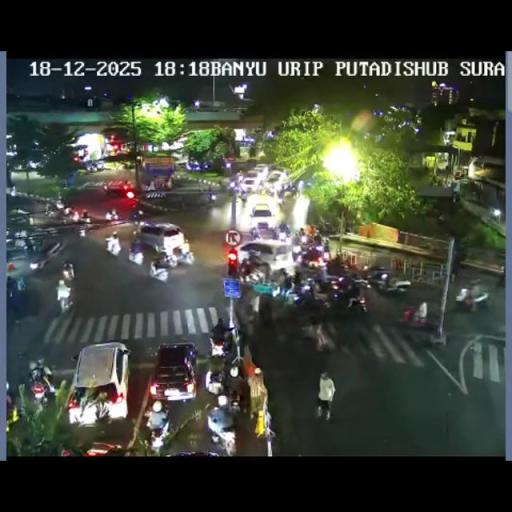Car: (66, 342, 132, 424), (147, 342, 198, 405), (236, 239, 294, 274), (137, 222, 185, 254), (364, 266, 408, 296), (66, 441, 124, 455), (248, 203, 276, 229), (105, 179, 134, 196), (266, 170, 287, 188), (242, 176, 262, 194), (70, 144, 90, 162), (252, 163, 270, 178)
Motorcycle: (290, 282, 326, 314), (208, 418, 238, 456), (29, 359, 54, 402), (234, 290, 257, 332), (306, 316, 332, 350), (148, 414, 170, 452), (209, 322, 232, 354), (254, 407, 274, 441), (204, 366, 226, 396), (258, 293, 274, 327), (346, 290, 368, 314), (226, 384, 244, 413), (153, 250, 178, 270), (274, 284, 296, 306), (6, 386, 18, 425), (56, 287, 73, 313), (454, 290, 472, 312), (470, 290, 489, 310), (104, 238, 122, 258), (176, 246, 194, 266), (351, 274, 370, 292), (150, 265, 170, 282), (43, 240, 62, 257), (6, 276, 18, 302), (128, 246, 144, 264), (280, 181, 298, 197), (128, 206, 146, 222), (30, 255, 47, 271), (277, 222, 291, 241), (59, 206, 78, 220), (276, 268, 290, 286), (402, 306, 416, 324), (61, 263, 74, 282), (494, 266, 505, 288), (292, 268, 303, 289), (46, 206, 62, 220), (292, 231, 306, 247), (13, 234, 27, 248), (105, 210, 121, 222), (250, 225, 262, 240), (77, 212, 91, 224), (248, 247, 262, 259), (16, 276, 26, 291), (259, 185, 271, 197), (206, 190, 216, 204), (312, 230, 322, 244), (320, 249, 330, 263), (228, 179, 238, 192), (94, 159, 105, 170), (26, 237, 34, 252), (85, 162, 97, 172), (239, 193, 247, 207), (277, 192, 285, 206), (134, 219, 143, 230), (78, 226, 86, 238), (322, 238, 330, 250), (185, 161, 195, 170), (10, 186, 16, 196)
